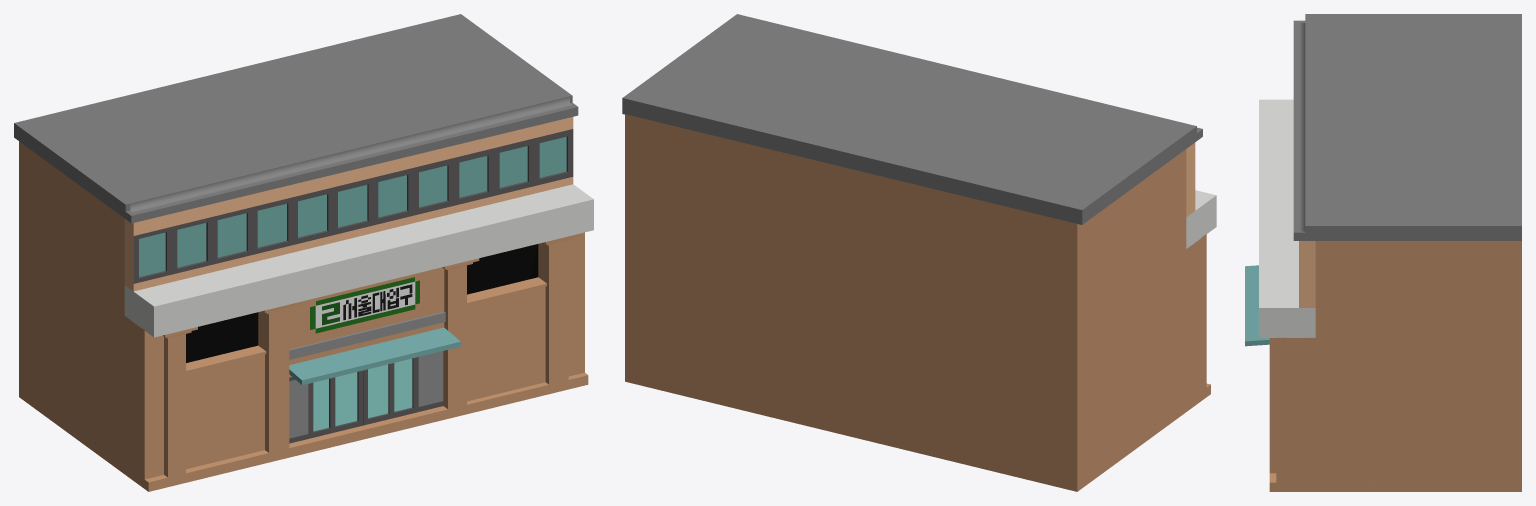
The model's file is 서울대입구 역.fbx.
3 views of the same model, side by side, from view 1: azimuth 30°, elevation 25°; view 2: azimuth 150°, elevation 25°; view 3: azimuth 270°, elevation 25° (orthographic). The views are drawn at different scales.
Parts seen in each view (by area): view 1: Box001; view 2: Box001; view 3: Box001.
Boxes of the visible parts, bbox=[...] form: Box001: bbox=[14, 14, 593, 491]; Box001: bbox=[622, 14, 1216, 491]; Box001: bbox=[1245, 14, 1521, 491].
Bounding box in the file's own units: 50.81 × 29.89 × 28.05.
Materials: 1 (1 with a texture image).
